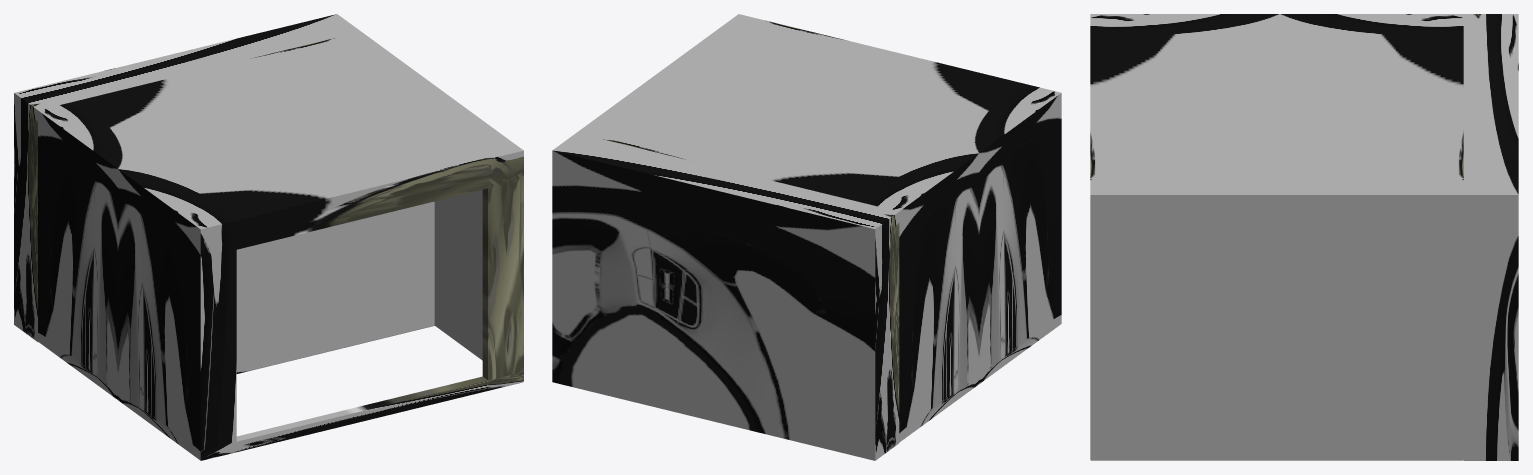
File: Counter_C.obj
3 renders of one model, left to right at view 1: azimuth 30°, elevation 25°; view 2: azimuth 150°, elevation 25°; view 3: azimuth 270°, elevation 25°, orthographic. The views are drawn at different scales.
Size of the model in its own units: 0.889 by 0.6096 by 0.889.
